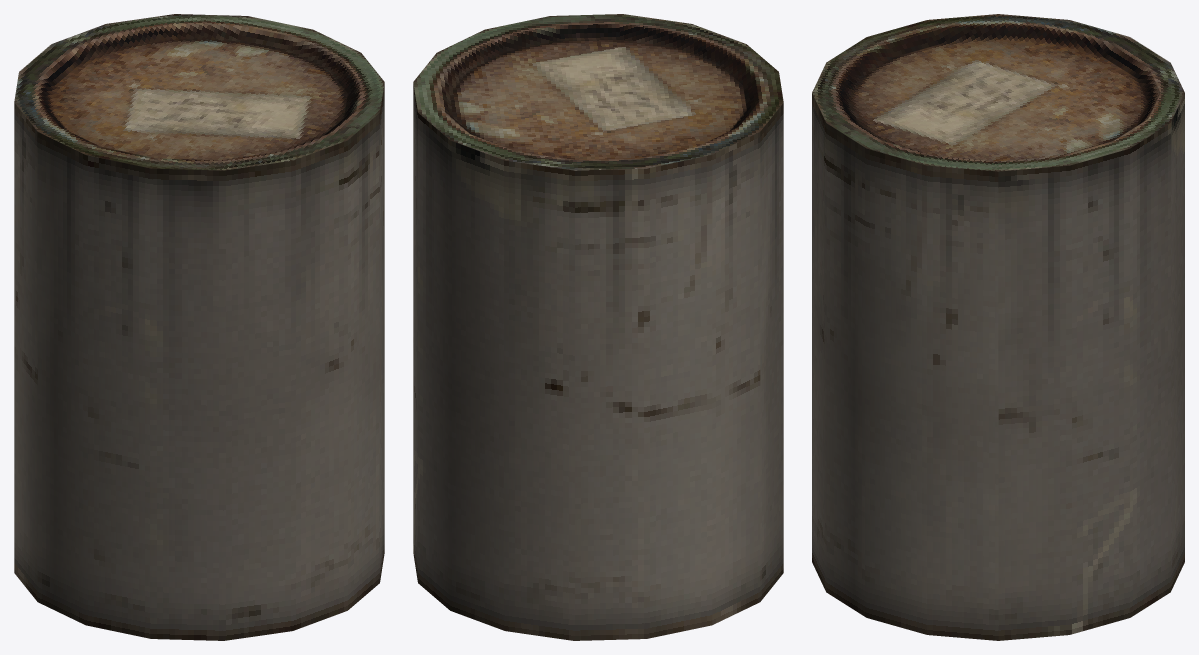
File: paint_can_mx_1.glb
3 renders of one model, left to right at view 1: azimuth 30°, elevation 25°; view 2: azimuth 150°, elevation 25°; view 3: azimuth 270°, elevation 25°, orthographic.
Visible parts, largest first — view 1: paint_can_mx_1; view 2: paint_can_mx_1; view 3: paint_can_mx_1.
Boxes of the visible parts, x1,y1,x2,y2 form: paint_can_mx_1: (14, 14, 384, 640); paint_can_mx_1: (413, 14, 783, 640); paint_can_mx_1: (812, 14, 1184, 640).
Bounding box in the file's own units: 0.18 × 0.25 × 0.18.
1 material, 1 textured.
